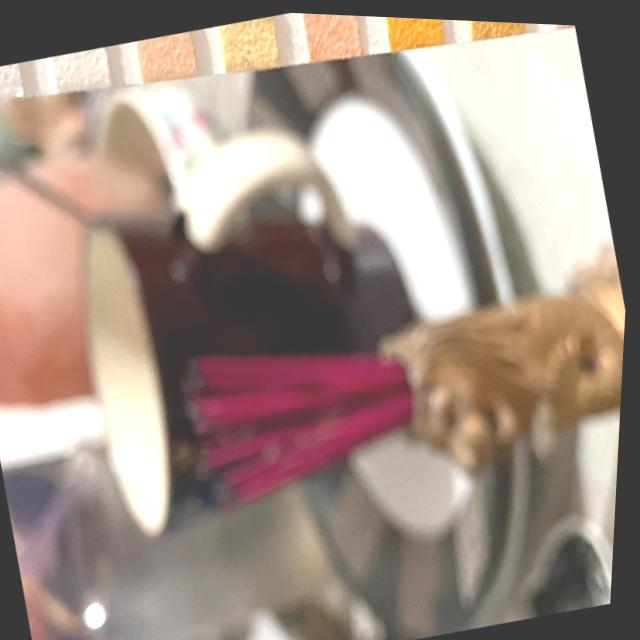Blood: (380, 13, 445, 50)
Leukocytes: (0, 61, 25, 104)
Nitrite: (49, 43, 113, 93)
Protein: (216, 11, 281, 72)
SpGravity: (459, 16, 524, 36)
Urobilinogen: (134, 26, 198, 81)
pH: (298, 10, 363, 60)
